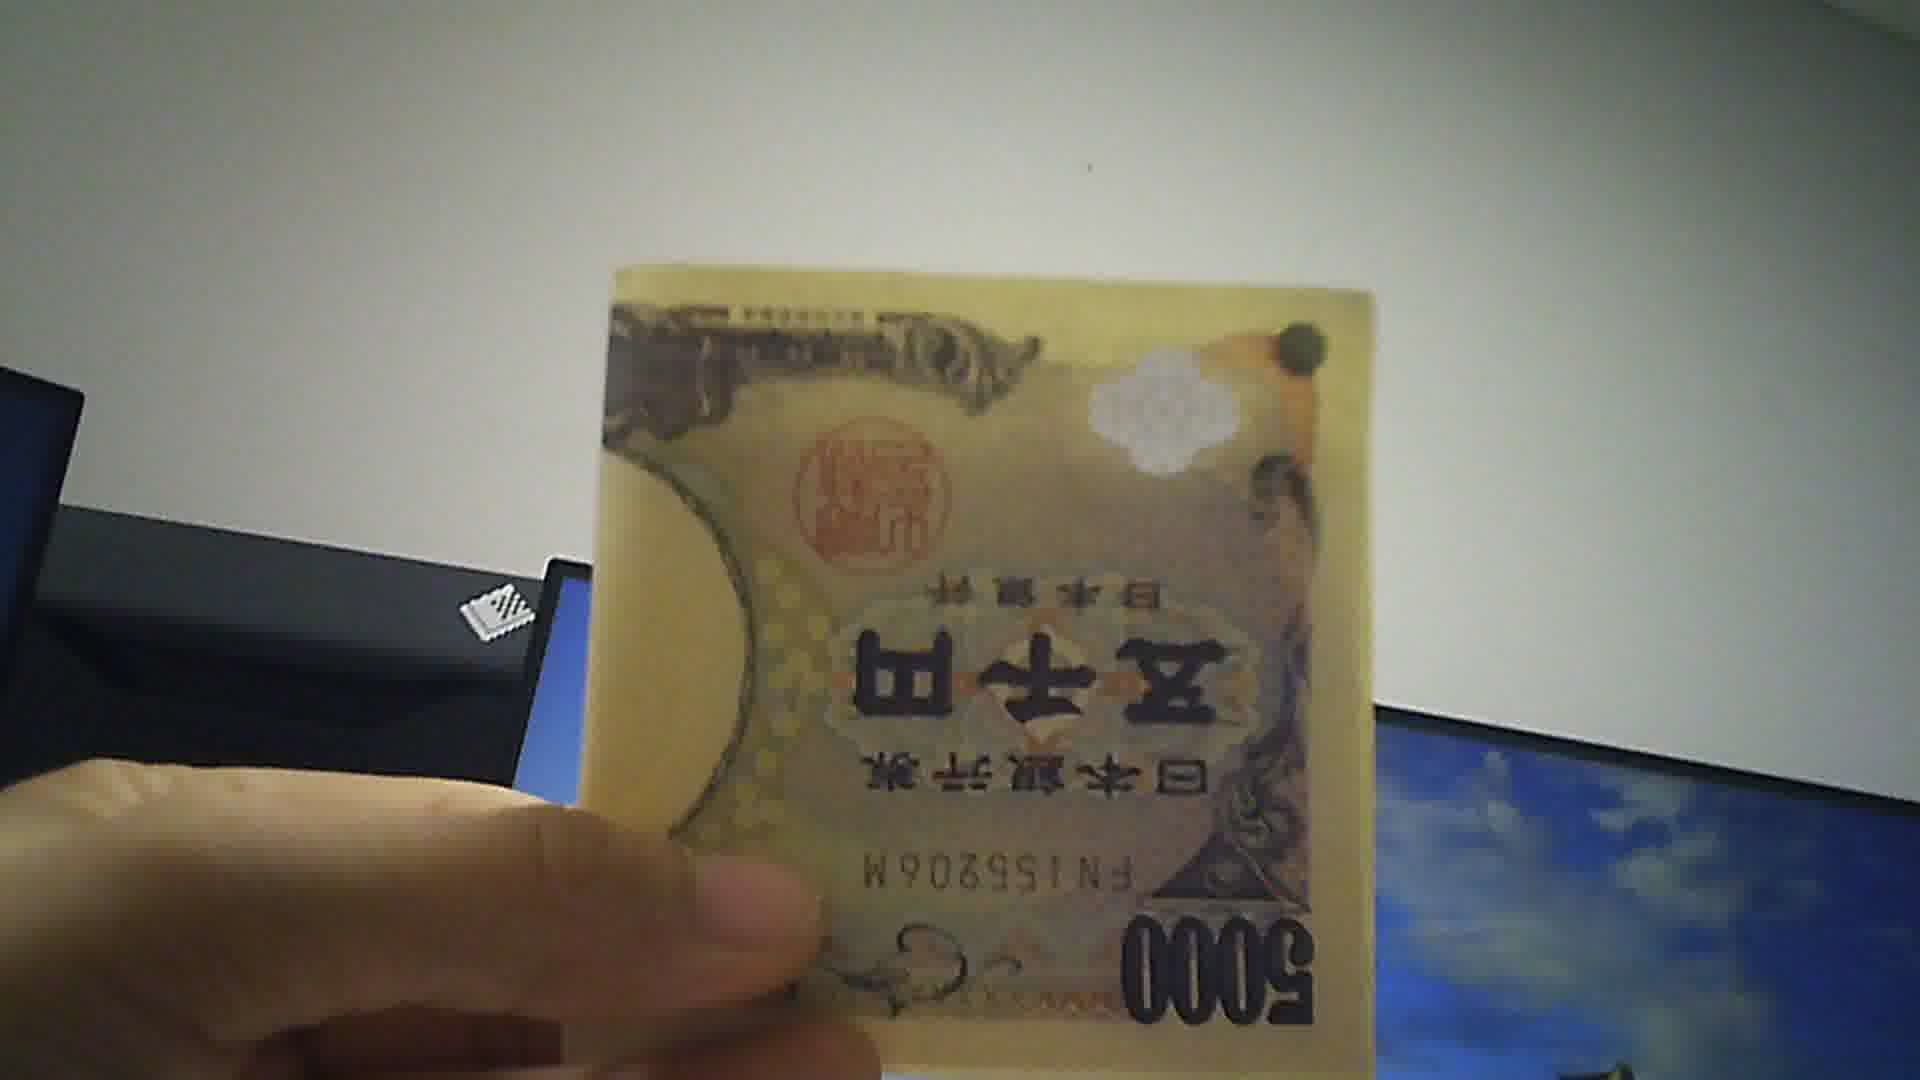5,000 Yen: (551, 237, 1395, 1079)
